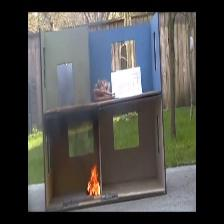fire: (82, 162, 105, 198)
